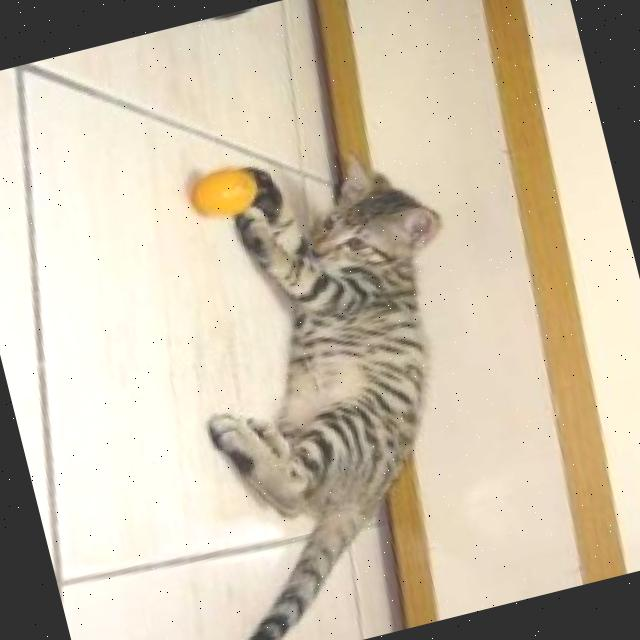ping-pong-ball: (184, 163, 268, 226)
